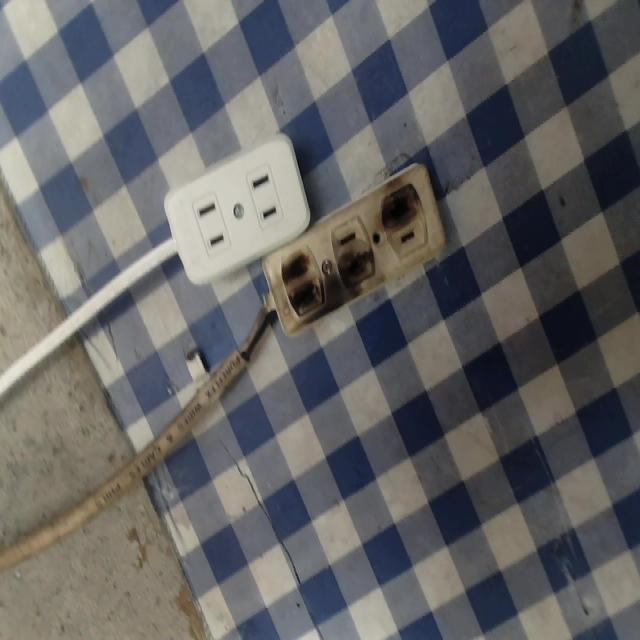-: (276, 244, 322, 327), (333, 252, 387, 303), (378, 180, 430, 232)
